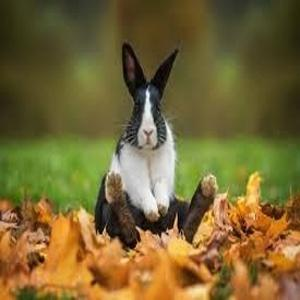rabbit: (94, 41, 180, 252), (180, 174, 218, 243)
